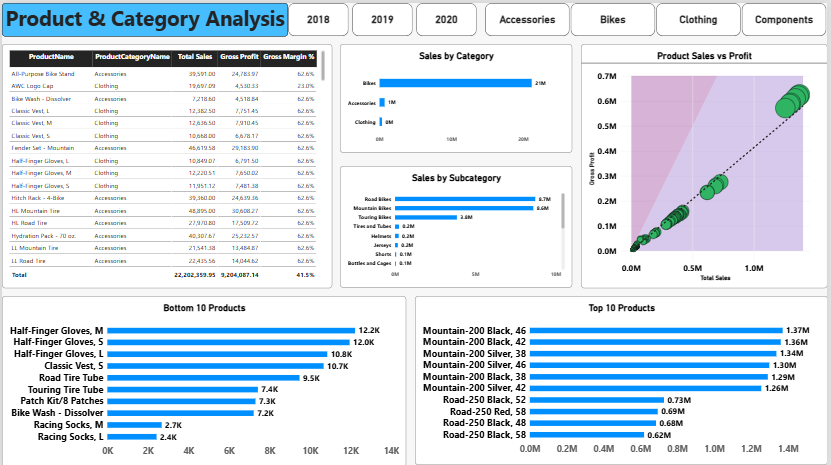

The page's visual inventory and layout, read from the dashboard file:
{"tool":"powerbi","page":{"name":"Product & Category Analysis","canvas":[1920,1080],"ordinal":1},"visuals":[{"type":"textbox","box":[0,0,665,77.5],"z":0},{"type":"clusteredBarChart","title":"Sales by Category","fields":{"Category":["Dim_Products.ProductCategoryName"],"Y":["Measures (2).Total Sales"]},"box":[785,95,540,252.5],"z":1},{"type":"clusteredBarChart","title":"Sales by Subcategory","fields":{"Category":["Dim_Products.ProductSubcategory"],"Y":["Measures (2).Total Sales"]},"box":[785,380,540,282.5],"z":2},{"type":"clusteredBarChart","title":"Top 10 Products","fields":{"Category":["Dim_Products.ProductName"],"Y":["Measures (2).Total Sales"]},"box":[960,682.5,960,392.5],"z":3},{"type":"clusteredBarChart","title":"Bottom 10 Products","fields":{"Category":["Dim_Products.ProductName"],"Y":["Measures (2).Total Sales"]},"box":[0,682.5,940,397.5],"z":4},{"type":"scatterChart","title":"Product Sales vs Profit","fields":{"Category":["Dim_Products.ProductName"],"X":["Measures (2).Total Sales"],"Y":["Measures (2).Gross Profit"],"Size":["Measures (2).Total Sales"]},"box":[1347.5,95,572.5,567.5],"z":5},{"type":"tableEx","fields":{"Values":["Dim_Products.ProductName","Dim_Products.ProductCategoryName","Measures (2).Total Sales","Measures (2).Gross Profit","Measures (2).Gross Margin %"]},"box":[0,95,767.5,567.5],"z":6},{"type":"advancedSlicerVisual","fields":{"Values":["Dim_Date.Year"]},"box":[665,0,440,77.5],"z":8},{"type":"advancedSlicerVisual","fields":{"Values":["Dim_Products.ProductCategoryName"]},"box":[1122.5,0,797.5,77.5],"z":9}]}

Visuals, with their boxes in screenshot pixels (x1, y1, x2, y2), scaled from the page's 1920x1080 canvas onto the 831x465 screenshot:
textbox: [left=0, top=0, right=288, bottom=33]
"Sales by Category" clusteredBarChart: [left=340, top=41, right=573, bottom=150]
"Sales by Subcategory" clusteredBarChart: [left=340, top=164, right=573, bottom=285]
"Top 10 Products" clusteredBarChart: [left=416, top=294, right=830, bottom=463]
"Bottom 10 Products" clusteredBarChart: [left=0, top=294, right=407, bottom=464]
"Product Sales vs Profit" scatterChart: [left=583, top=41, right=830, bottom=285]
tableEx - Dim_Products.ProductName x Dim_Products.ProductCategoryName: [left=0, top=41, right=332, bottom=285]
advancedSlicerVisual - Dim_Date.Year: [left=288, top=0, right=478, bottom=33]
advancedSlicerVisual - Dim_Products.ProductCategoryName: [left=486, top=0, right=830, bottom=33]
